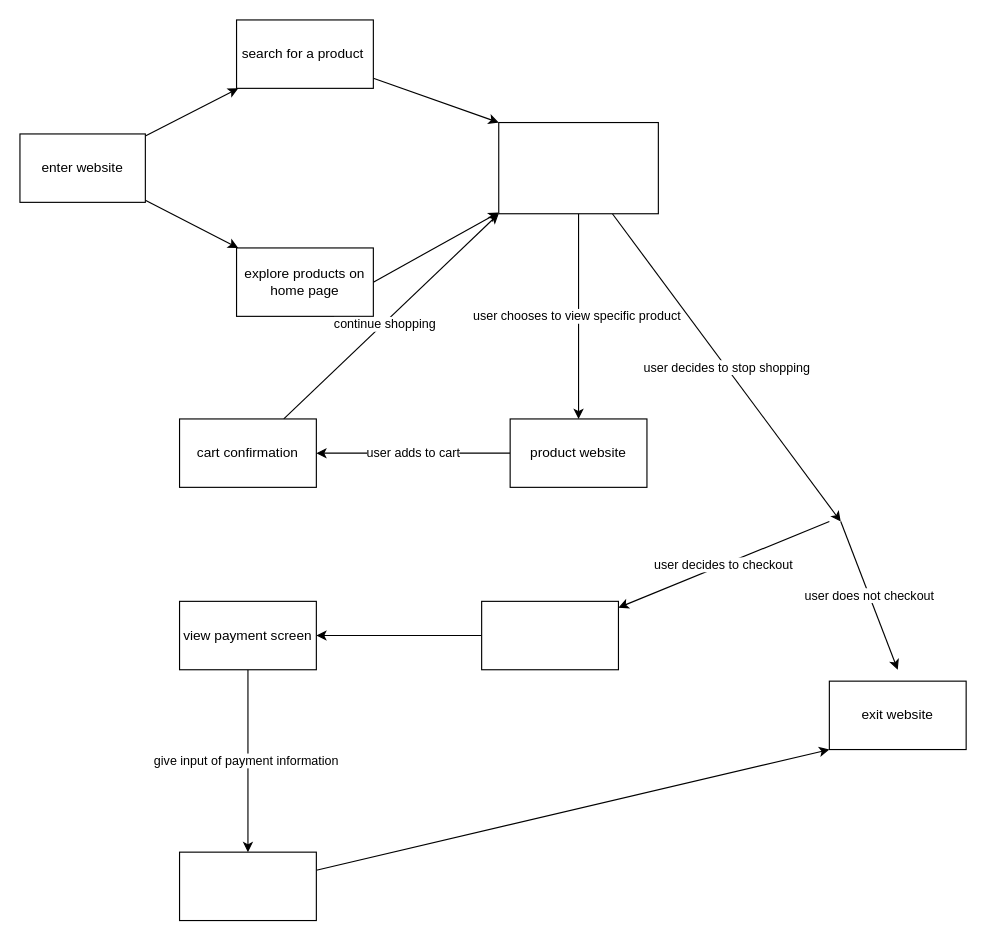
Image size: 986x941. Some labels were removed from this diagram. The centre of each missing label's shape, as x and y in pixels:
"looking over products" belongs at pixel 578 167.
"order confirmation screen" belongs at pixel 247 886.
"view cart screen" belongs at pixel 549 635.
